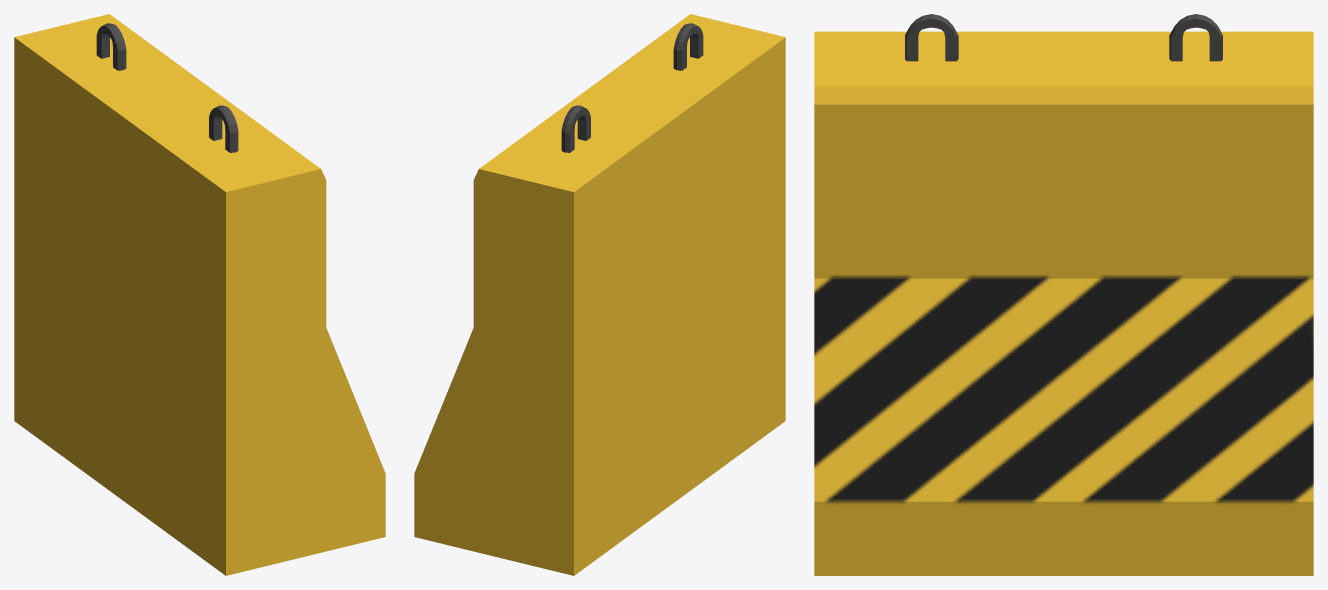
File: model-scenario-static-cubecity-barrier.fbx
The picture shows the model from 3 angles, left to right: view 1: azimuth 30°, elevation 25°; view 2: azimuth 150°, elevation 25°; view 3: azimuth 270°, elevation 25°; orthographic projection. The views are drawn at different scales.
Visible parts, largest first — view 1: mesh; view 2: mesh; view 3: mesh.
Boxes of the visible parts, bbox=[...] form: mesh: bbox=[14, 14, 385, 575]; mesh: bbox=[414, 14, 785, 575]; mesh: bbox=[814, 14, 1313, 575].
Bounding box in the file's own units: 0.9045 × 0.3941 × 0.9931.
